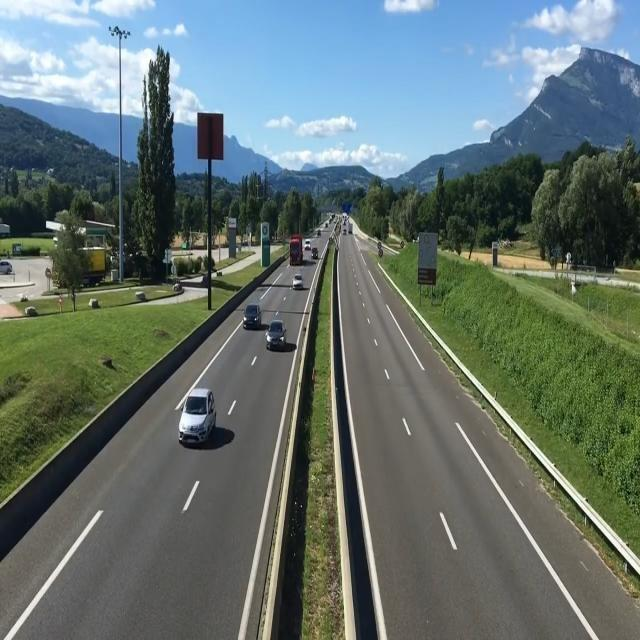Car: (178, 382, 218, 450), (266, 318, 288, 350), (240, 302, 264, 329), (290, 274, 304, 291)
Truck: (287, 234, 305, 265)
Van: (304, 239, 312, 250), (312, 248, 318, 260)
